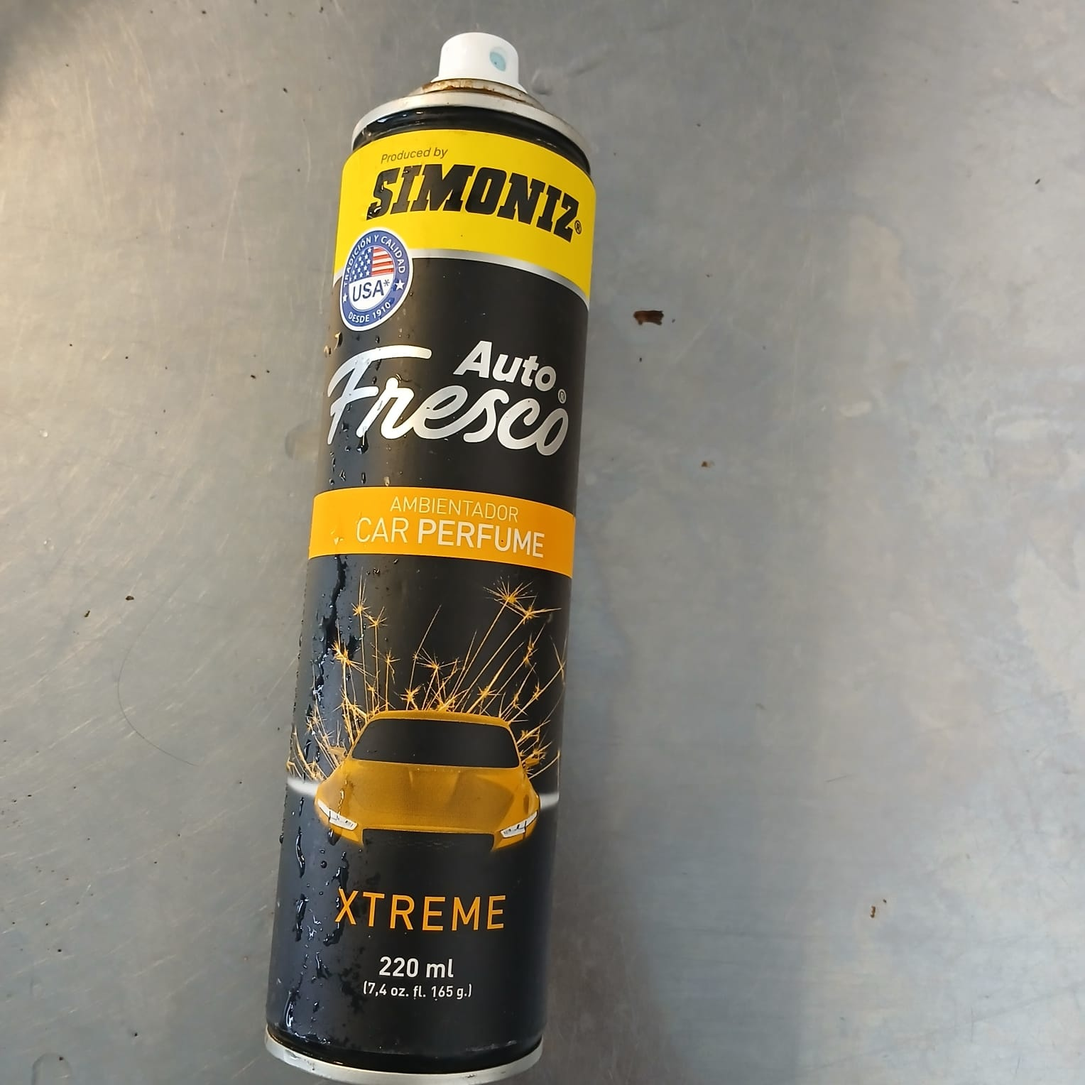Metal: (265, 82, 602, 1085)
